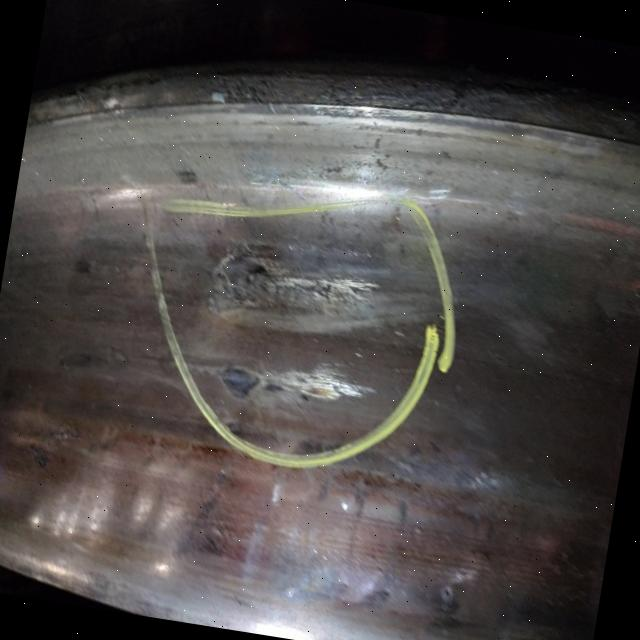Rollerpile: (194, 214, 385, 340)
flat: (216, 333, 380, 422)
